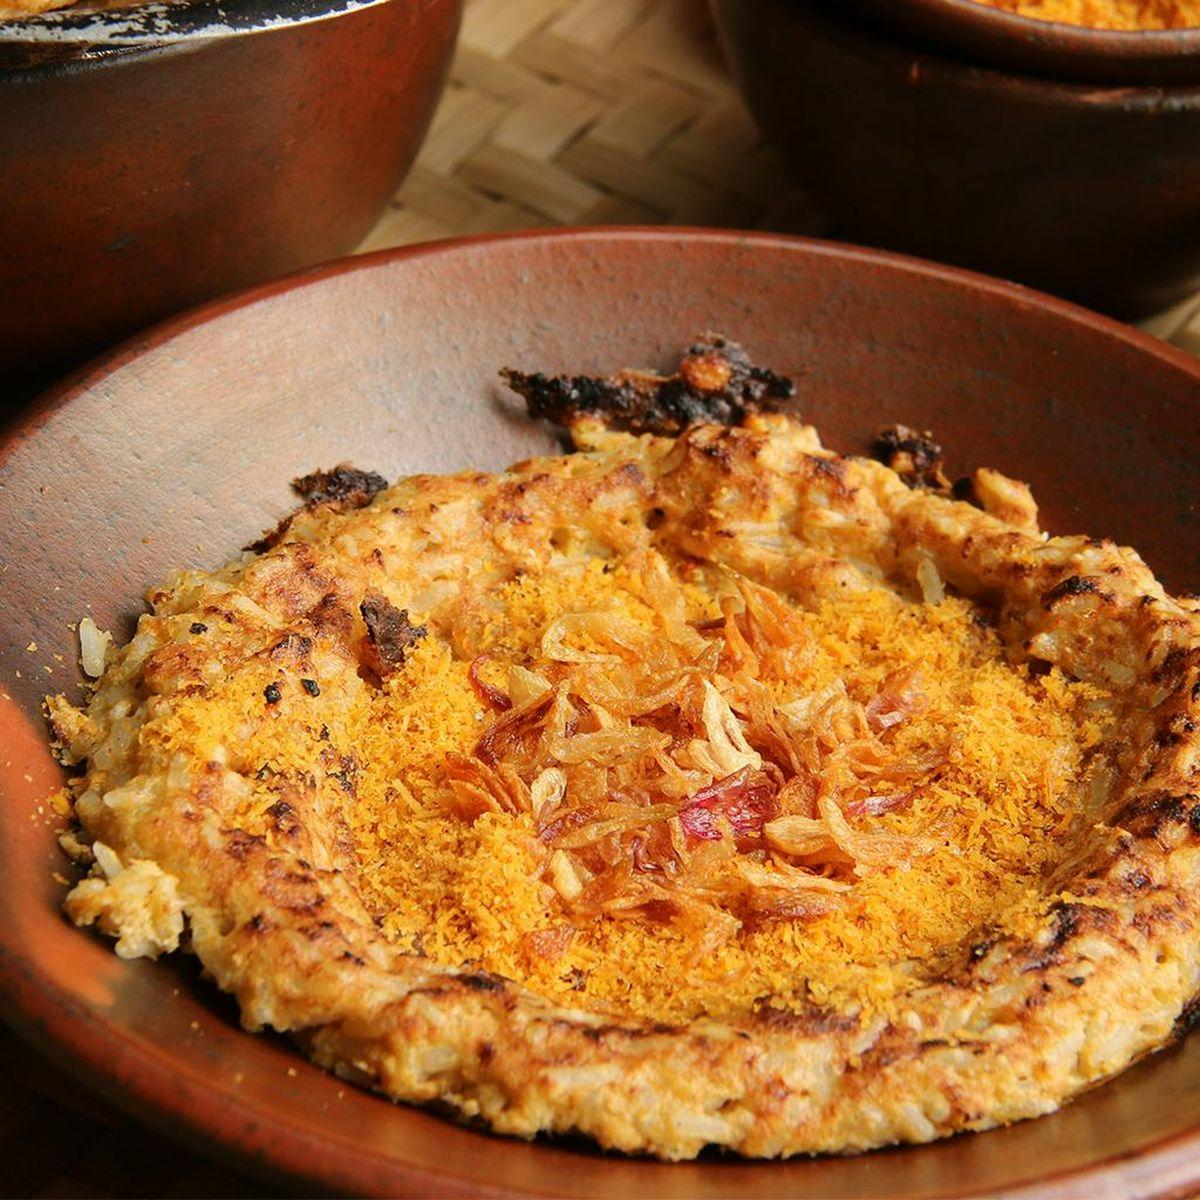kerak_telor: (56, 436, 1200, 1163)
